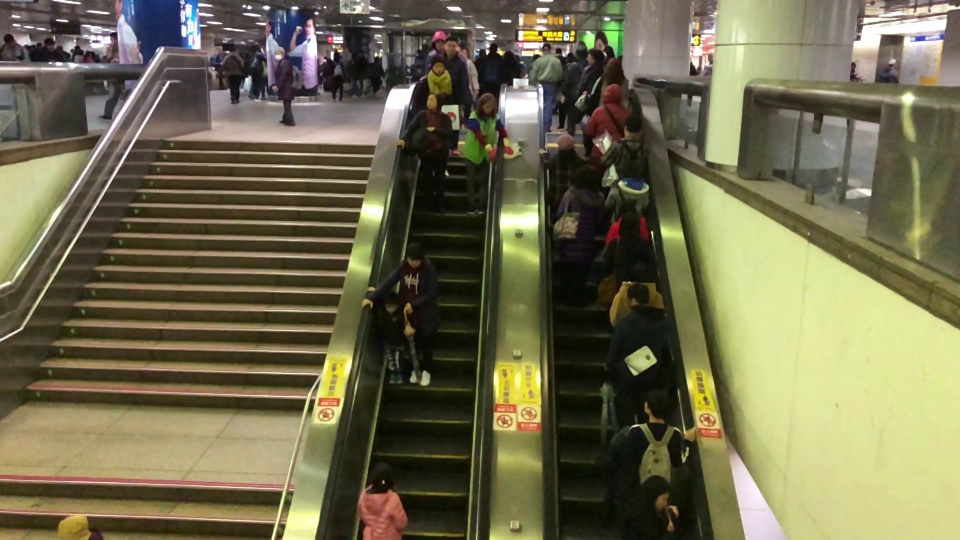person_head: (638, 474, 673, 512), (641, 388, 672, 422), (55, 513, 92, 540), (571, 163, 601, 191), (616, 210, 641, 239), (369, 461, 394, 489), (626, 283, 650, 309), (405, 241, 425, 269), (628, 262, 652, 284), (621, 115, 642, 139), (556, 132, 575, 157), (602, 83, 623, 105), (621, 160, 642, 181), (603, 57, 623, 79), (477, 93, 496, 116), (616, 200, 637, 219), (383, 290, 400, 312), (430, 31, 447, 52), (425, 91, 442, 111), (586, 49, 604, 66), (443, 36, 459, 55), (430, 56, 445, 76), (575, 44, 588, 60), (503, 49, 516, 63), (273, 46, 285, 61), (43, 37, 56, 50), (3, 32, 15, 46), (602, 45, 614, 57), (541, 42, 551, 55), (565, 51, 575, 64), (109, 31, 118, 44), (460, 47, 469, 60), (489, 42, 498, 54), (417, 49, 426, 60), (252, 44, 261, 54), (478, 48, 487, 58), (887, 58, 896, 68), (333, 51, 341, 61), (73, 45, 81, 54), (35, 41, 43, 50), (228, 43, 236, 52), (357, 49, 365, 58), (555, 46, 562, 56), (350, 53, 358, 61), (84, 50, 91, 58), (215, 47, 222, 55), (850, 62, 856, 71), (373, 56, 380, 63), (707, 58, 713, 65)
person_vbox: (362, 241, 441, 387), (604, 283, 675, 428), (615, 388, 695, 488), (553, 162, 606, 310), (393, 91, 454, 215), (462, 92, 514, 216), (424, 36, 469, 155), (418, 56, 459, 177), (538, 132, 589, 226), (600, 210, 658, 289), (617, 474, 685, 540), (356, 461, 409, 540), (584, 83, 633, 162), (608, 261, 664, 329), (372, 290, 410, 384), (528, 42, 564, 133), (600, 114, 649, 179), (575, 49, 604, 157), (603, 160, 649, 227), (585, 56, 629, 116), (269, 46, 297, 127), (565, 44, 588, 137), (604, 200, 649, 246), (214, 42, 244, 104), (98, 31, 118, 121), (555, 51, 575, 130), (247, 43, 267, 103), (480, 42, 503, 91), (460, 47, 480, 103), (424, 30, 447, 76), (552, 46, 565, 115), (329, 51, 346, 102), (0, 32, 29, 61), (501, 49, 520, 86), (38, 36, 65, 62), (357, 49, 371, 97), (370, 56, 385, 96), (346, 53, 358, 99), (410, 49, 426, 81), (686, 61, 697, 107), (474, 48, 487, 83), (882, 57, 899, 83), (30, 41, 43, 62), (209, 47, 222, 65), (72, 45, 84, 63), (703, 58, 713, 76), (849, 62, 856, 81), (84, 50, 94, 63)
